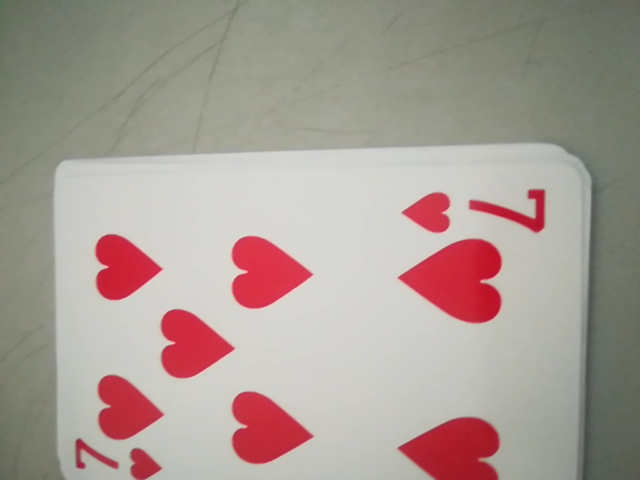hx 7: (395, 176, 553, 240), (61, 435, 181, 478)
